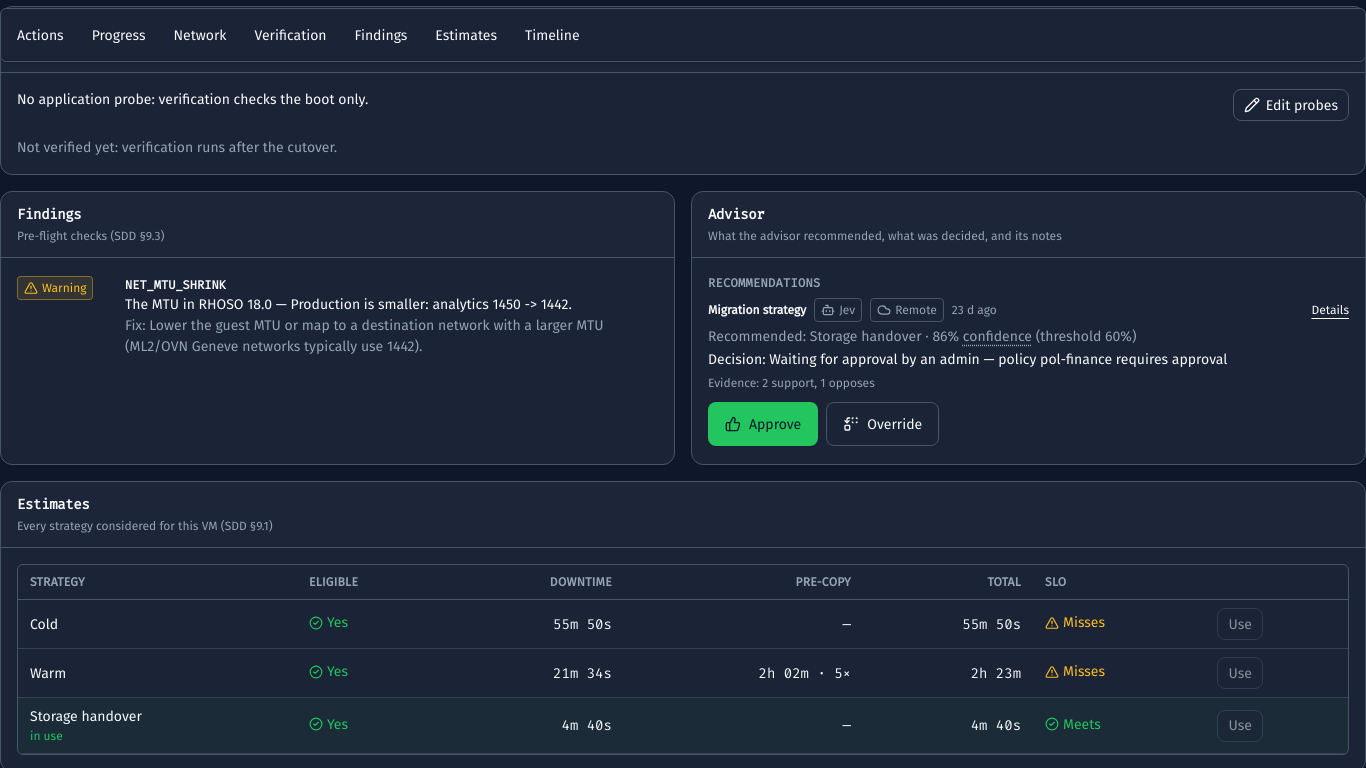
Test case: MigrationDetail › overrides the decision with the reason the policy asks for, then runs the chosen option (SDD §14.6, ADV-04)
The image size is (1366, 768).
(page scrolled)
Click the button "Override" at (883, 424), box [826,402,939,446]
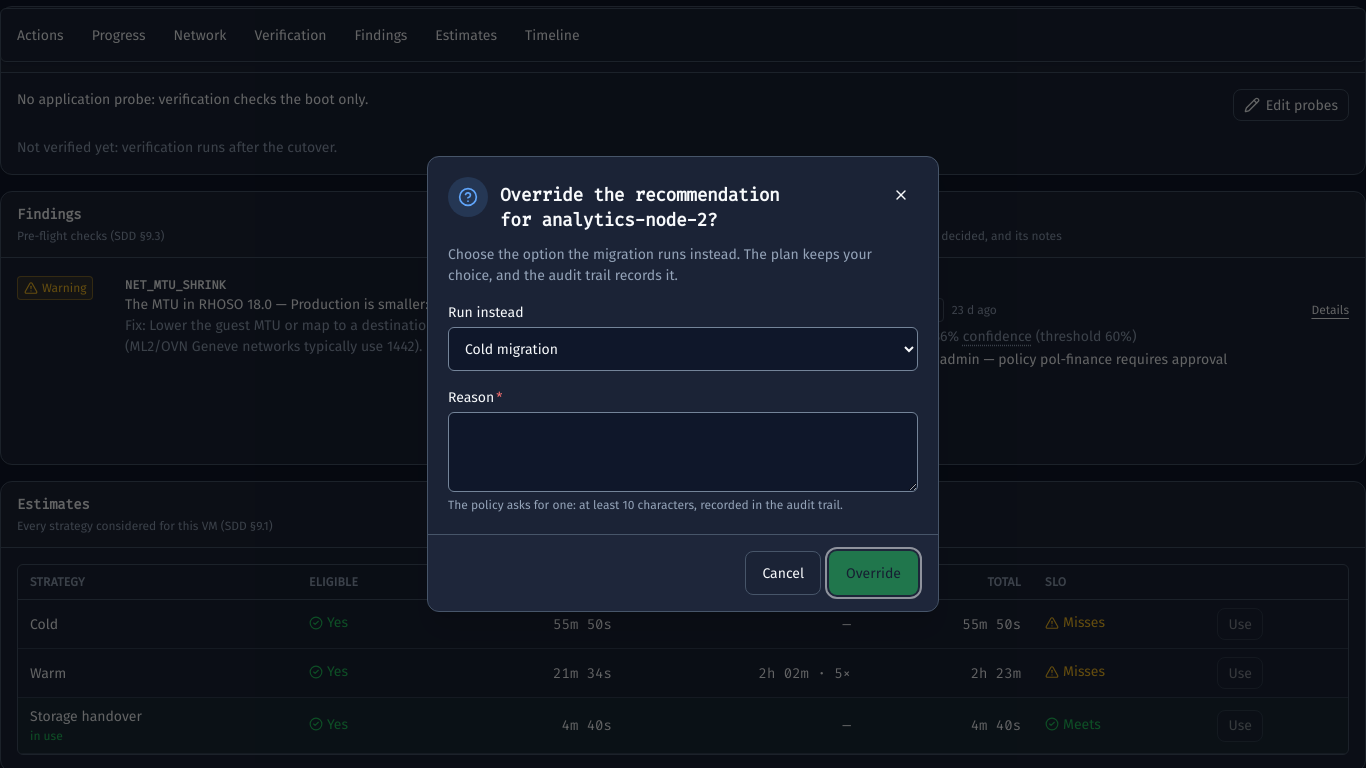
Select "Cold migration" in the dropdown labelled "Run instead" at (683, 349), box [448,327,918,371]
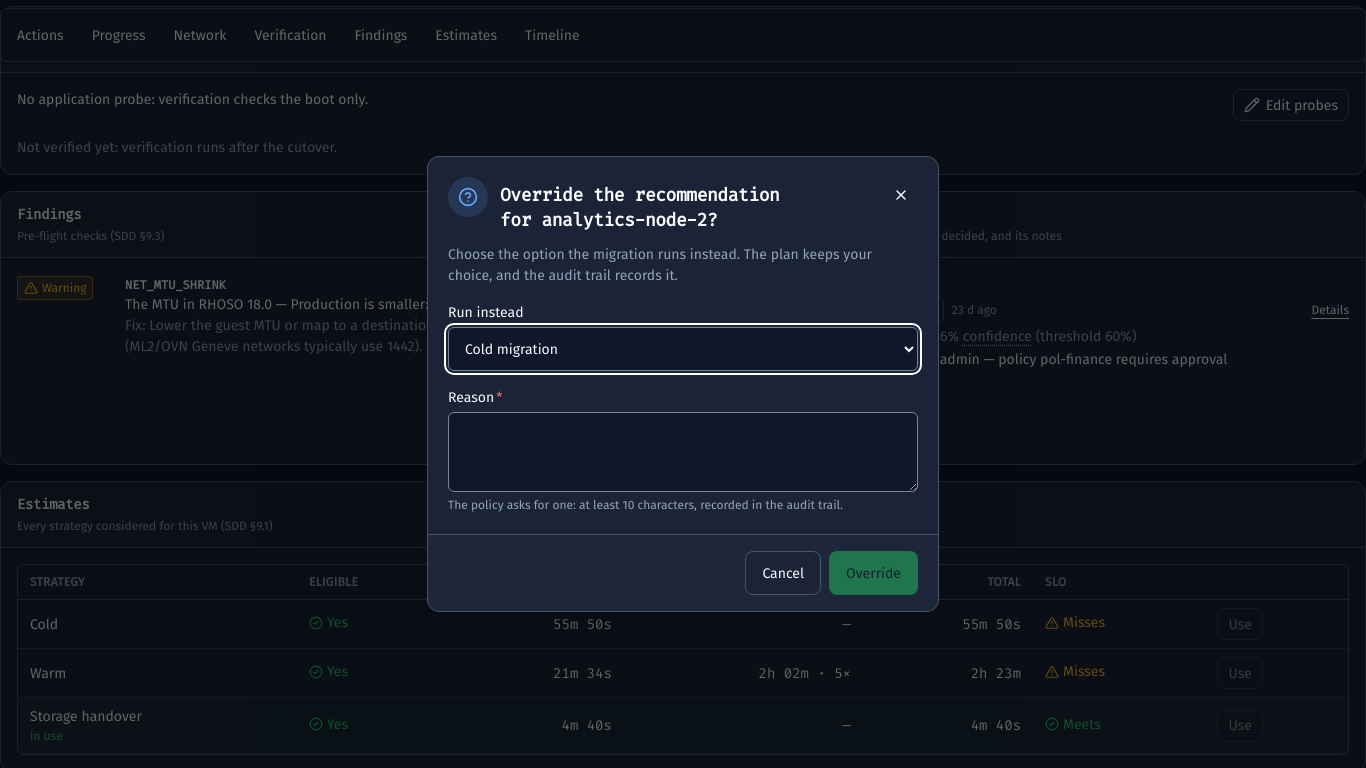
Type "too short" into the text box labelled "Reason*" at (683, 452), box [448,412,918,492]
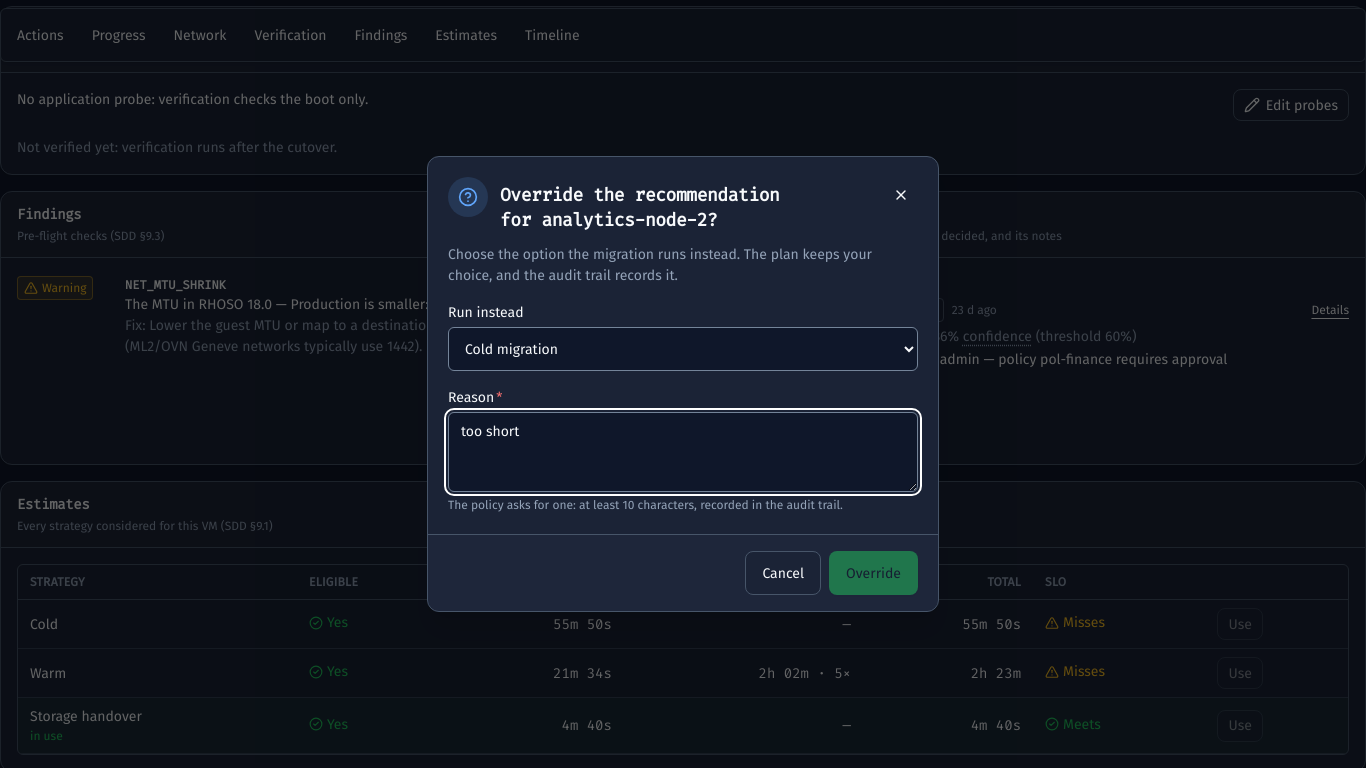
Click the button "Override" at (874, 573), box [829,551,918,595]
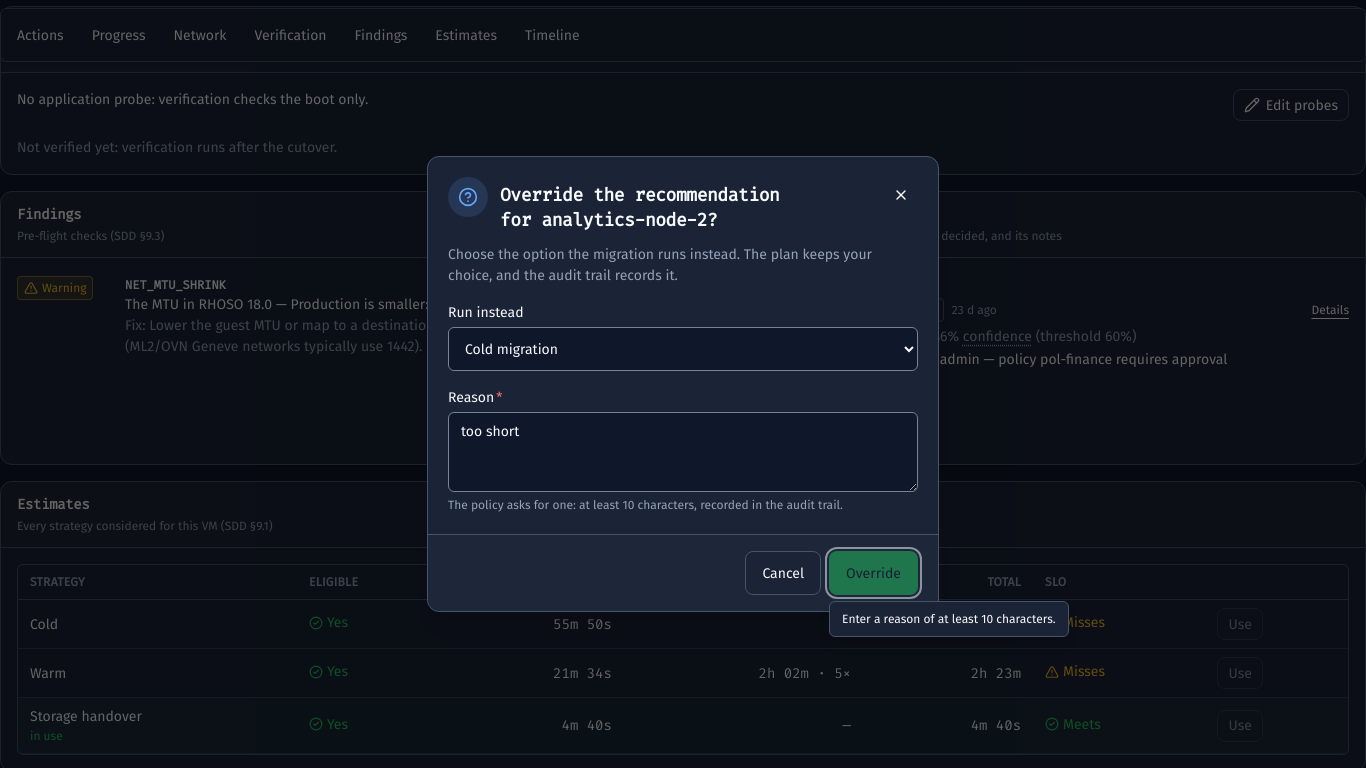
Type ": the window fits a cold cutover" into the text box labelled "Reason*" at (683, 452), box [448,412,918,492]
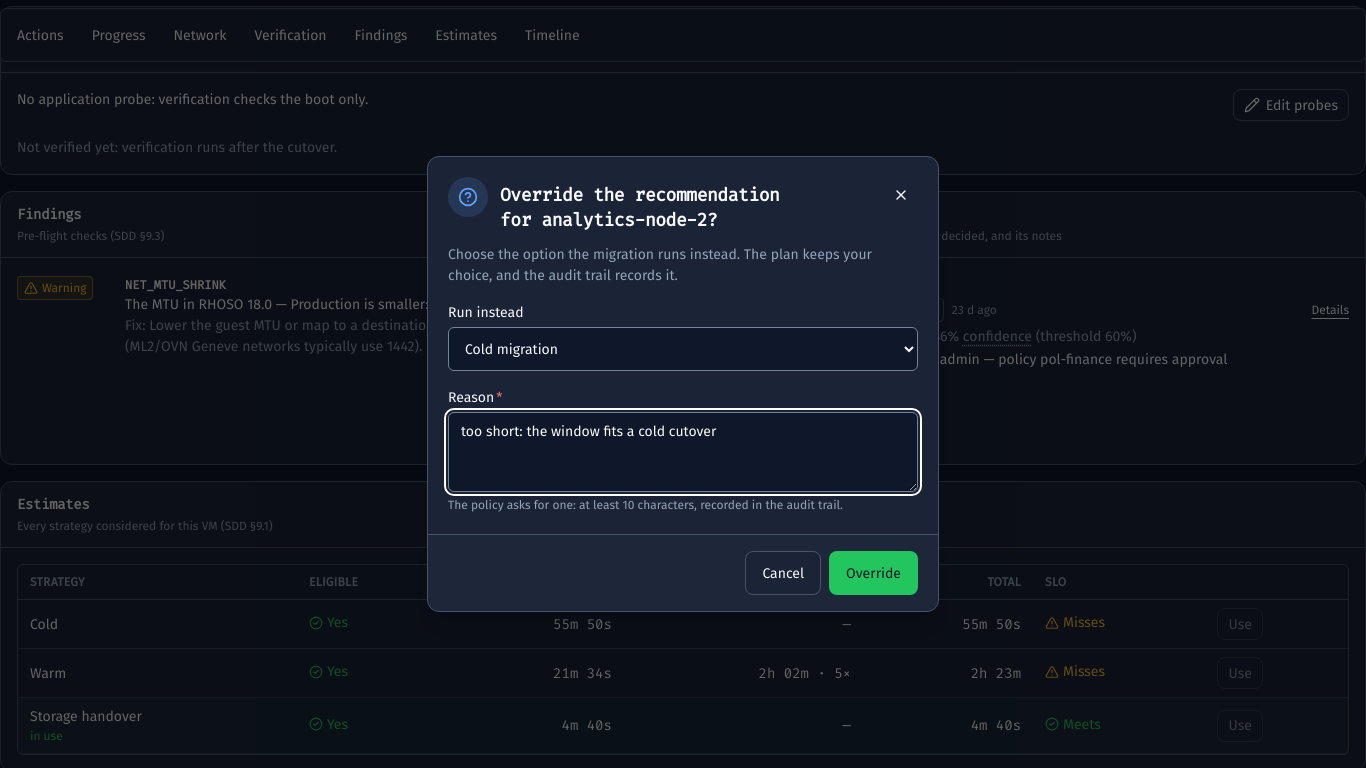
Click the button "Override" at (874, 573), box [829,551,918,595]
(page scrolled)
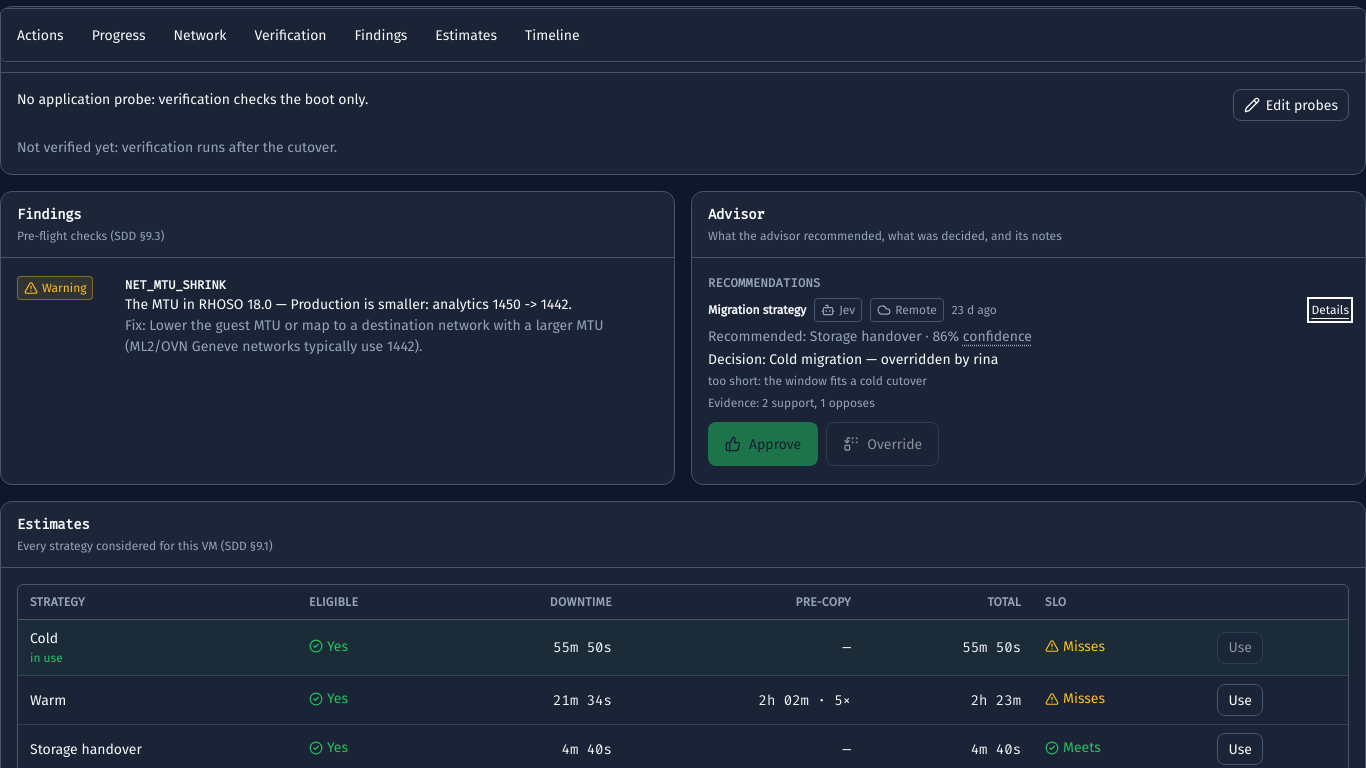
Expected: the text "Decision: Cold migration — overridden by rina" is shown, [708,351,998,368]
Expected: the text "too short: the window fits a cold cutover" is shown, [708,374,927,388]
